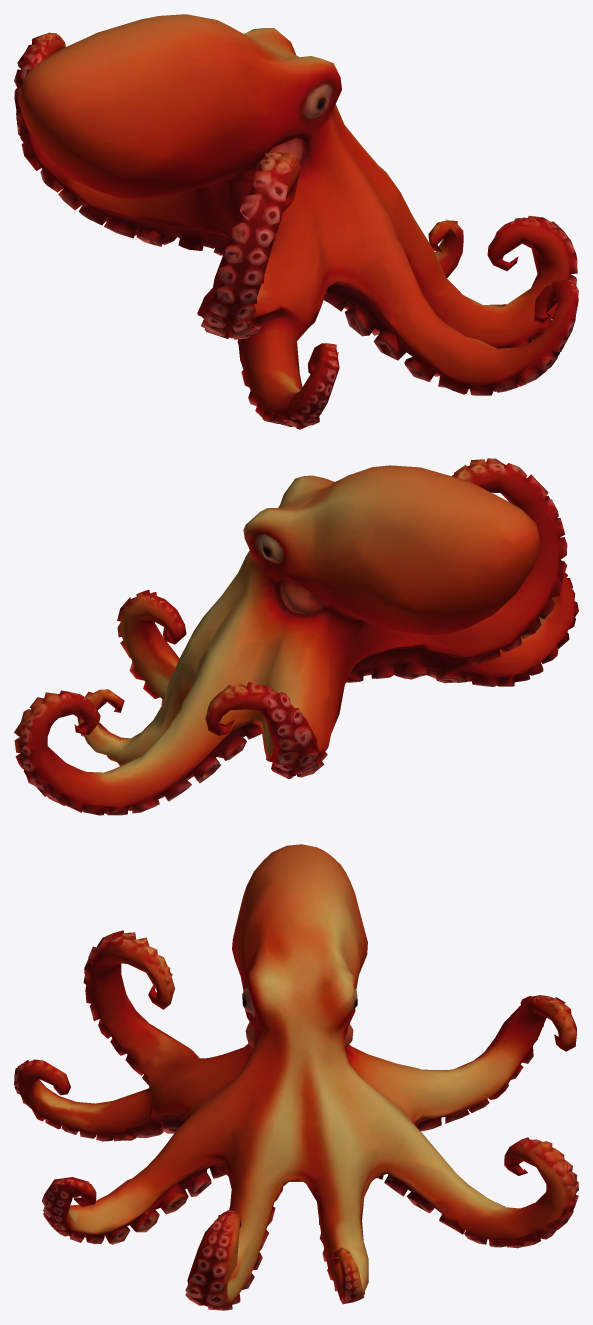
The model's file is octopus.glb.
3 views of the same model, one above another, from view 1: azimuth 30°, elevation 25°; view 2: azimuth 150°, elevation 25°; view 3: azimuth 270°, elevation 25° (orthographic). The views are drawn at different scales.
Parts seen in each view (by area): view 1: tripo_node_80358c89-40d4-46d9-89b0-c8ccc85121b7; view 2: tripo_node_80358c89-40d4-46d9-89b0-c8ccc85121b7; view 3: tripo_node_80358c89-40d4-46d9-89b0-c8ccc85121b7.
Part boxes in pixels (x1,y1,x2,y2): tripo_node_80358c89-40d4-46d9-89b0-c8ccc85121b7: (14,14,578,429); tripo_node_80358c89-40d4-46d9-89b0-c8ccc85121b7: (14,458,578,815); tripo_node_80358c89-40d4-46d9-89b0-c8ccc85121b7: (14,844,578,1310).
Bounding box in the file's own units: 0.8632 × 0.609 × 1.
Materials: 1 (1 with a texture image).
